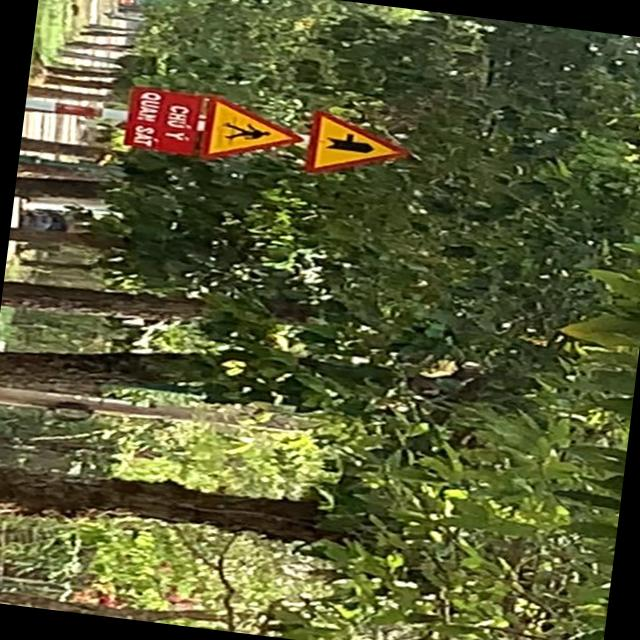W-207c: (301, 108, 412, 180)
W-224: (195, 94, 308, 170)
